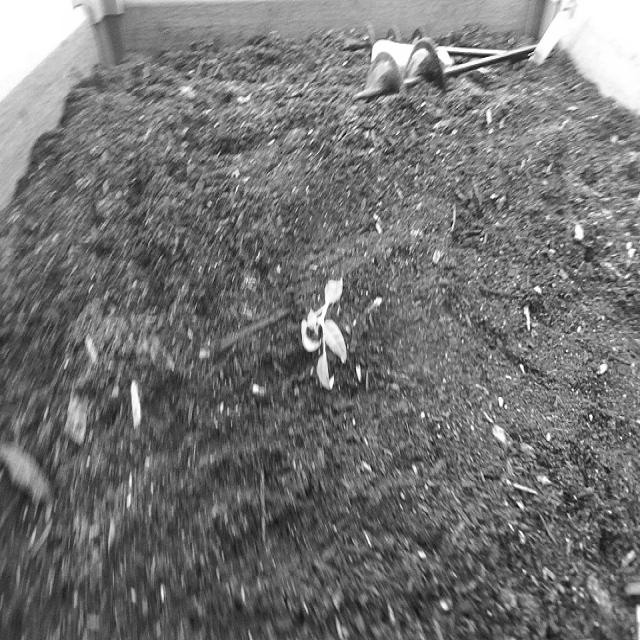Healthy: (299, 270, 351, 398)
